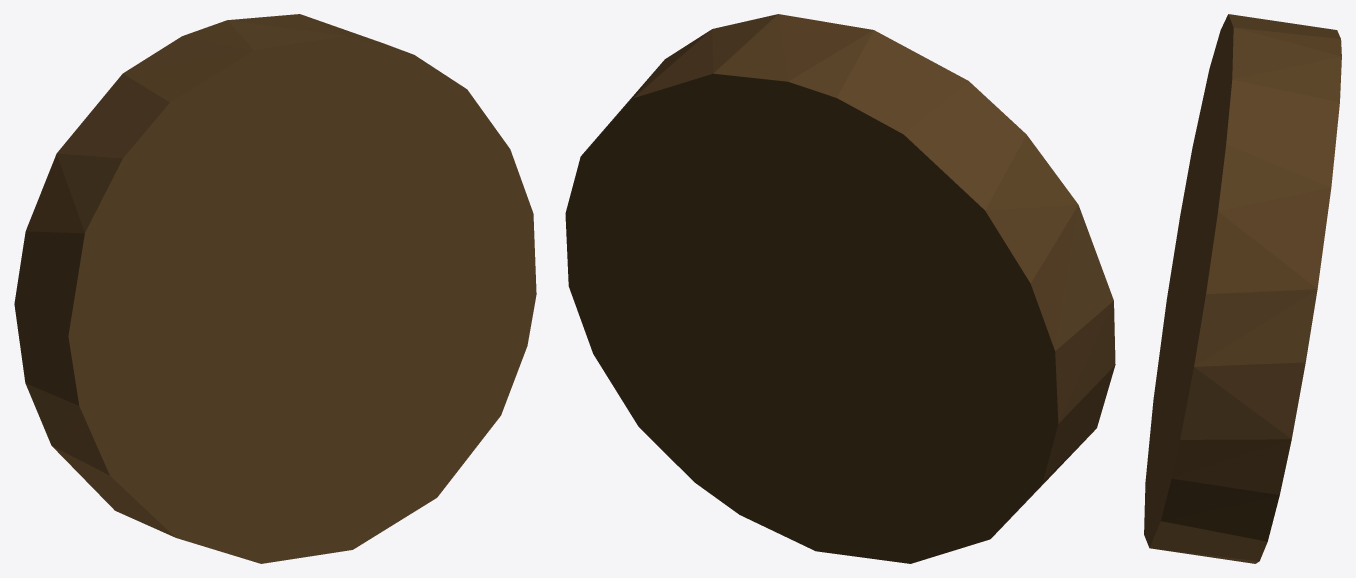
Rendered from right_elbow_x_link_visual_11.obj.
3 views of the same model, side by side, from view 1: azimuth 30°, elevation 25°; view 2: azimuth 150°, elevation 25°; view 3: azimuth 270°, elevation 25° (orthographic). The views are drawn at different scales.
Parts seen in each view (by area): view 1: i01.right.bicep.full.012_visual.001; view 2: i01.right.bicep.full.012_visual.001; view 3: i01.right.bicep.full.012_visual.001.
Part boxes in pixels (x1,y1,x2,y2): i01.right.bicep.full.012_visual.001: (14, 14, 536, 563); i01.right.bicep.full.012_visual.001: (565, 14, 1115, 563); i01.right.bicep.full.012_visual.001: (1144, 14, 1341, 563).
Size of the model in its own units: 0.1666 by 0.17 by 0.0612.
